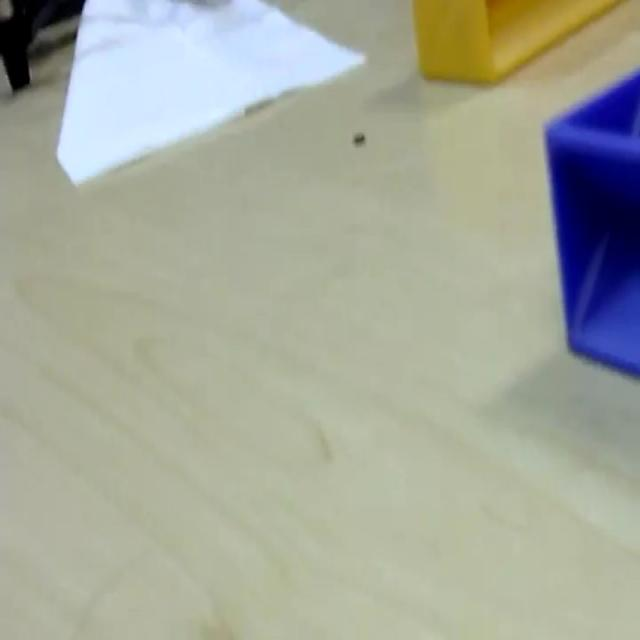blue_block: (542, 65, 638, 378)
yellow_block: (410, 0, 622, 84)
